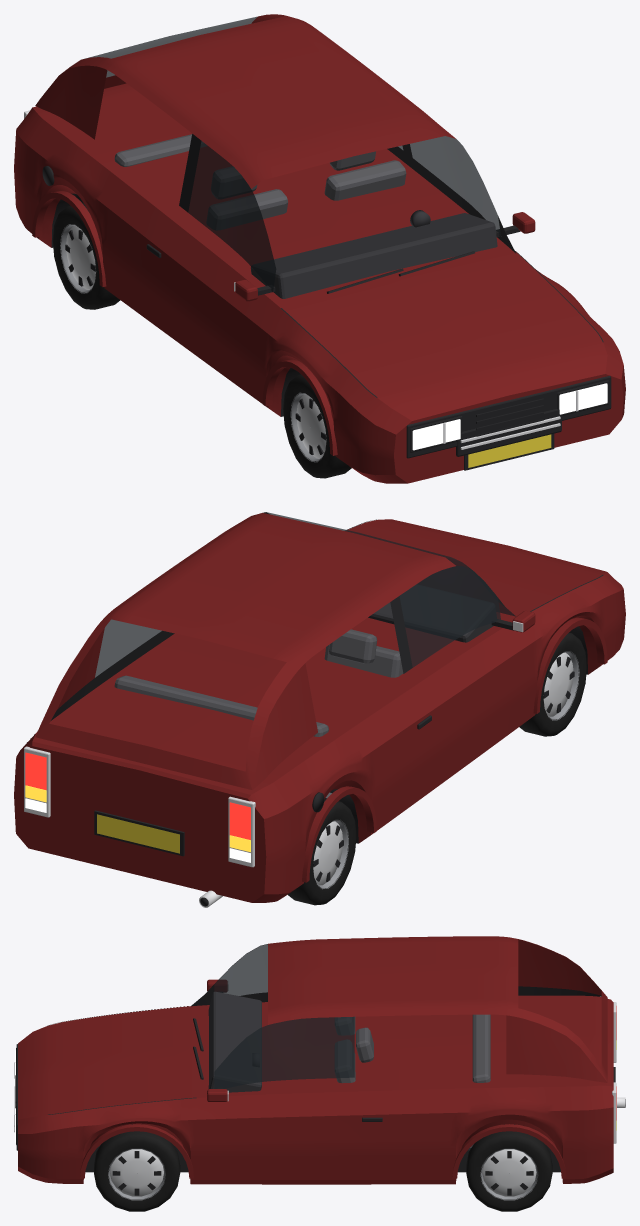
File: tr_hatch.glb
3 renders of one model, top to bottom at view 1: azimuth 30°, elevation 25°; view 2: azimuth 150°, elevation 25°; view 3: azimuth 270°, elevation 25°, orthographic. The views are drawn at different scales.
Visible parts, largest first — view 1: cabin_roof, hood, tub, door_R, nose, cabin_glass, dash, fender_R, quarter_R, wheel_FR, wheel_RR, grille (+14 smaller); view 2: cabin_roof, tub, tail, door_R, cabin_glass, hood, quarter_R, fender_R, dash, wheel_RR, wheel_FR, rear_back (+13 smaller); view 3: cabin_roof, door_L, tub, hood, cabin_glass, quarter_L, fender_L, wheel_RL, wheel_FL, dash, nose, tail (+6 smaller).
Part boxes in pixels (left/top/right/bottom): cabin_roof: left=35, top=14, right=455, bottom=188; hood: left=282, top=251, right=602, bottom=397; tub: left=42, top=92, right=513, bottom=307; door_R: left=97, top=175, right=280, bottom=403; nose: left=359, top=342, right=625, bottom=483; cabin_glass: left=84, top=16, right=500, bottom=291; dash: left=250, top=213, right=497, bottom=298; fender_R: left=262, top=309, right=376, bottom=480; quarter_R: left=23, top=118, right=115, bottom=247; wheel_FR: left=283, top=374, right=351, bottom=478; wheel_RR: left=52, top=202, right=120, bottom=309; grille: left=406, top=375, right=611, bottom=458; cabin_roof: left=35, top=513, right=455, bottom=789; tub: left=49, top=616, right=512, bottom=783; tail: left=14, top=731, right=290, bottom=902; door_R: left=349, top=628, right=533, bottom=843; cabin_glass: left=95, top=512, right=515, bottom=677; hood: left=346, top=520, right=601, bottom=619; quarter_R: left=272, top=730, right=367, bottom=901; fender_R: left=524, top=575, right=621, bottom=717; dash: left=368, top=584, right=496, bottom=642; wheel_RR: left=288, top=798, right=356, bottom=905; wheel_FR: left=519, top=632, right=586, bottom=736; rear_back: left=114, top=675, right=328, bottom=736; cabin_roof: left=268, top=936, right=607, bottom=1082; door_L: left=196, top=1088, right=464, bottom=1184; tub: left=196, top=995, right=586, bottom=1097; hood: left=47, top=1006, right=196, bottom=1114; cabin_glass: left=214, top=944, right=354, bottom=1088; quarter_L: left=464, top=1086, right=586, bottom=1183; fender_L: left=47, top=1098, right=196, bottom=1184; wheel_RL: left=466, top=1131, right=552, bottom=1211; wheel_FL: left=94, top=1131, right=180, bottom=1211; dash: left=208, top=991, right=261, bottom=1092; nose: left=18, top=1026, right=47, bottom=1182; tail: left=587, top=996, right=613, bottom=1182.
Bounding box in the file's own units: 1.81 × 1.44 × 4.11.
